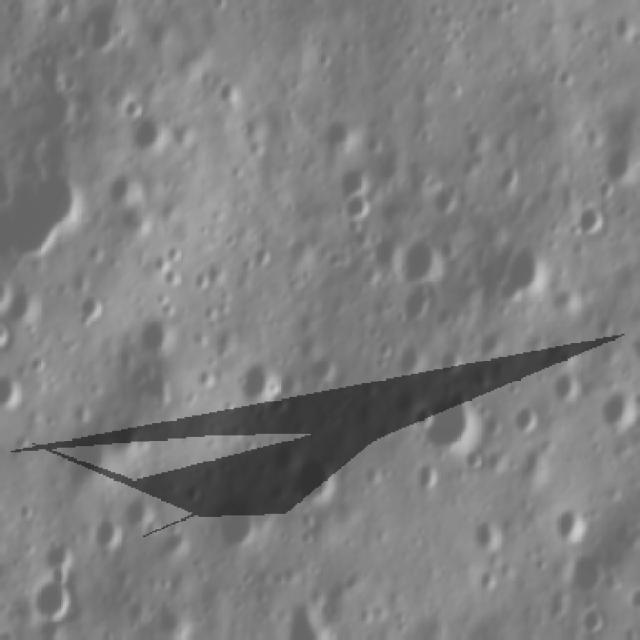crater: (413, 385, 482, 457), (492, 238, 553, 310), (71, 0, 127, 62), (210, 492, 259, 556), (286, 452, 340, 510), (263, 603, 343, 640), (396, 232, 444, 288), (358, 232, 404, 286), (133, 314, 178, 366), (5, 277, 48, 331), (32, 578, 78, 627), (603, 134, 640, 192), (314, 118, 361, 162), (600, 389, 640, 440), (238, 350, 272, 410), (122, 485, 158, 538), (568, 546, 606, 596), (127, 113, 171, 156), (467, 518, 508, 562), (512, 448, 552, 492), (158, 521, 195, 564), (399, 286, 436, 328), (331, 164, 369, 204), (555, 506, 591, 548), (0, 369, 28, 422), (549, 372, 586, 410), (73, 291, 104, 335), (87, 516, 121, 556), (580, 200, 611, 243), (575, 601, 609, 640), (153, 601, 187, 640), (510, 402, 544, 440), (341, 193, 377, 227), (408, 405, 434, 440), (0, 314, 17, 364), (473, 568, 498, 598), (623, 583, 640, 617), (0, 267, 11, 319), (629, 329, 640, 371), (222, 0, 260, 11), (515, 638, 550, 640)
